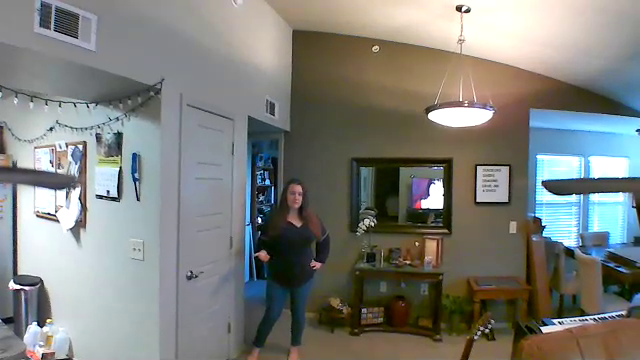land: (250, 248, 272, 270)
